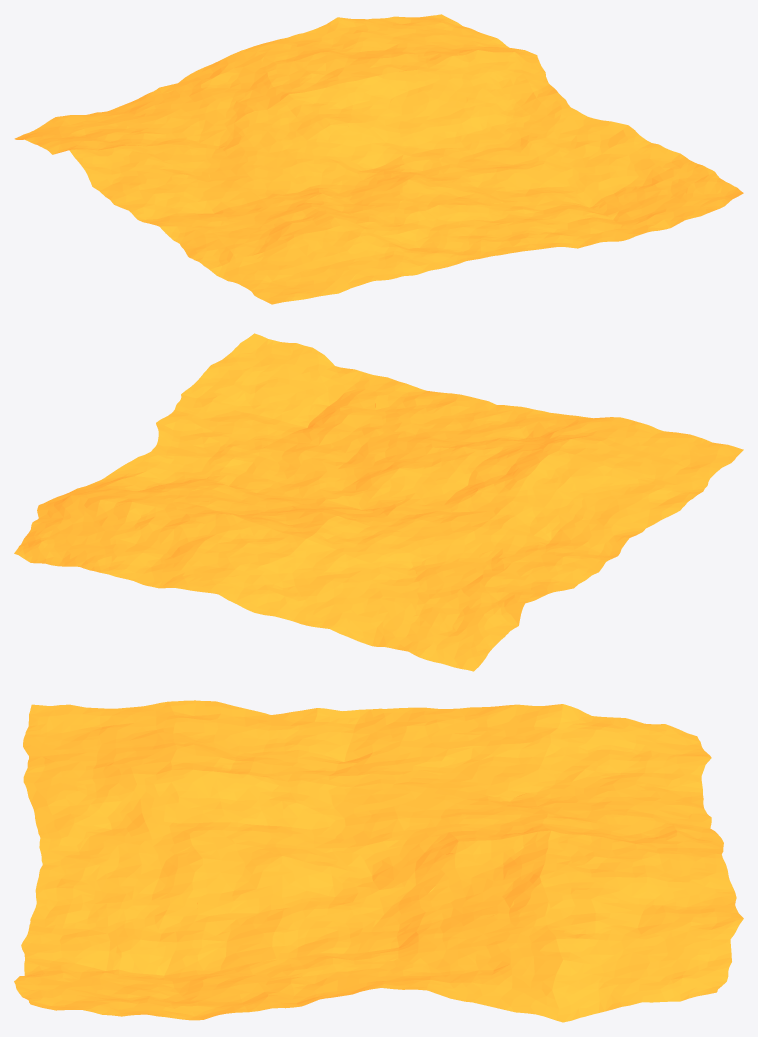
File: environment_1.gltf
3 renders of one model, top to bottom at view 1: azimuth 30°, elevation 25°; view 2: azimuth 150°, elevation 25°; view 3: azimuth 270°, elevation 25°, orthographic. The views are drawn at different scales.
Visible parts, largest first — view 1: Environment_1; view 2: Environment_1; view 3: Environment_1.
Part boxes in pixels (x1,y1,x2,y2): Environment_1: (14, 14, 743, 304); Environment_1: (14, 333, 743, 671); Environment_1: (14, 700, 743, 1022).
Size of the model in its own units: 2142 by 174 by 2155.
